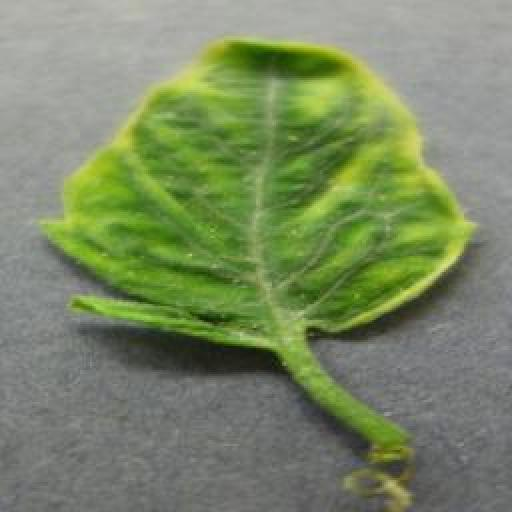Yellow Leaf Curl Virus: (32, 37, 478, 347)
